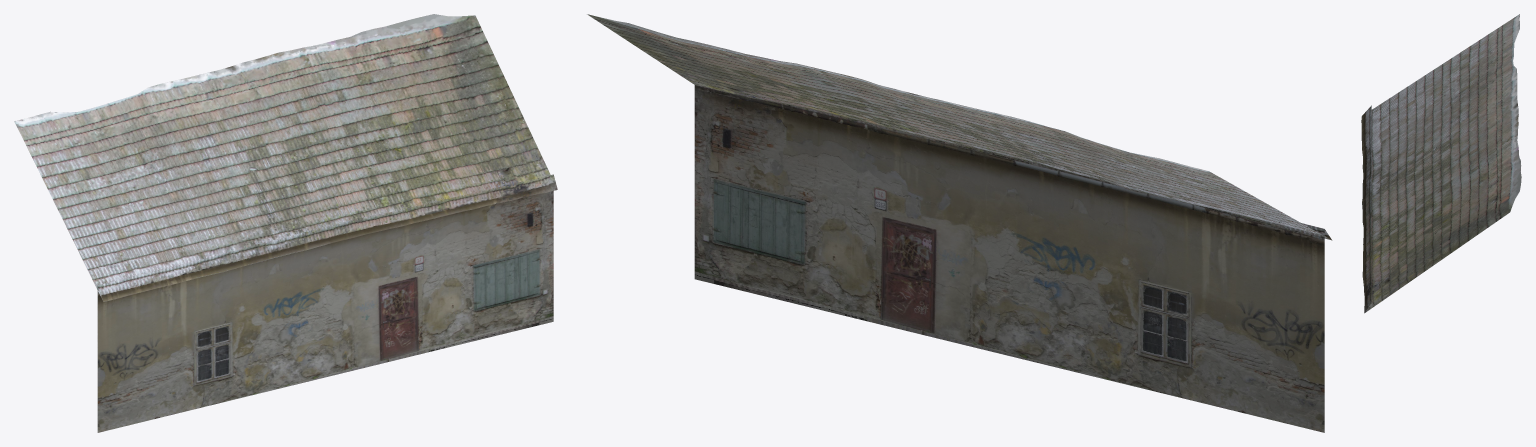
Rendered from house_a.glb.
3 views of the same model, side by side, from view 1: azimuth 30°, elevation 25°; view 2: azimuth 150°, elevation 25°; view 3: azimuth 270°, elevation 25° (orthographic). The views are drawn at different scales.
Visible parts, largest first — view 1: old_house_4; view 2: old_house_4; view 3: old_house_4.
Part boxes in pixels (bbox=[...]): old_house_4: bbox=[14, 14, 557, 432]; old_house_4: bbox=[587, 14, 1332, 432]; old_house_4: bbox=[1361, 14, 1521, 313].
Size of the model in its own units: 9.61 by 5.14 by 3.3.
Materials: 1 (1 with a texture image).
